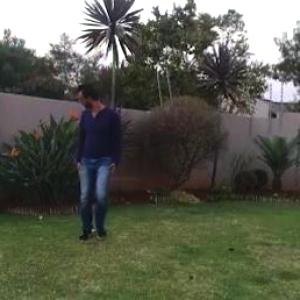follow: (68, 73, 125, 251)
